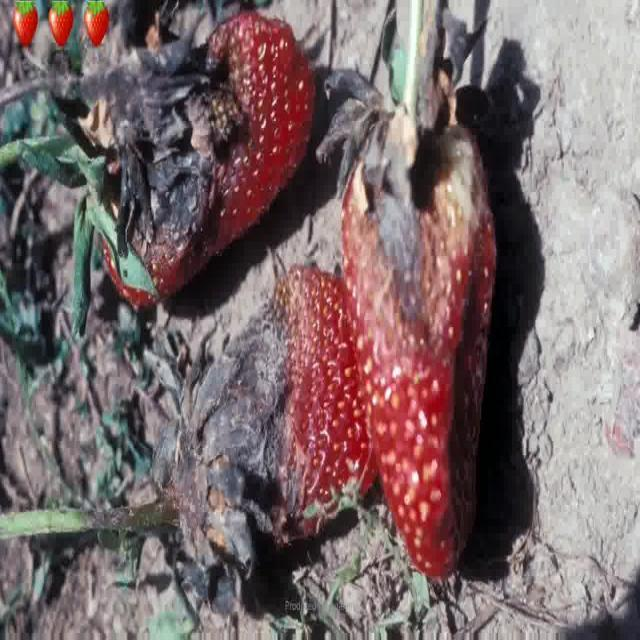Moho gris: (342, 101, 518, 587), (178, 256, 375, 569), (110, 12, 308, 296)
